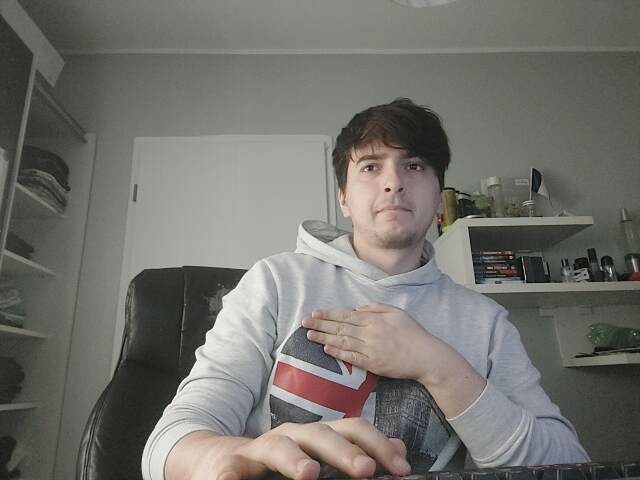please: (301, 303, 427, 378)
